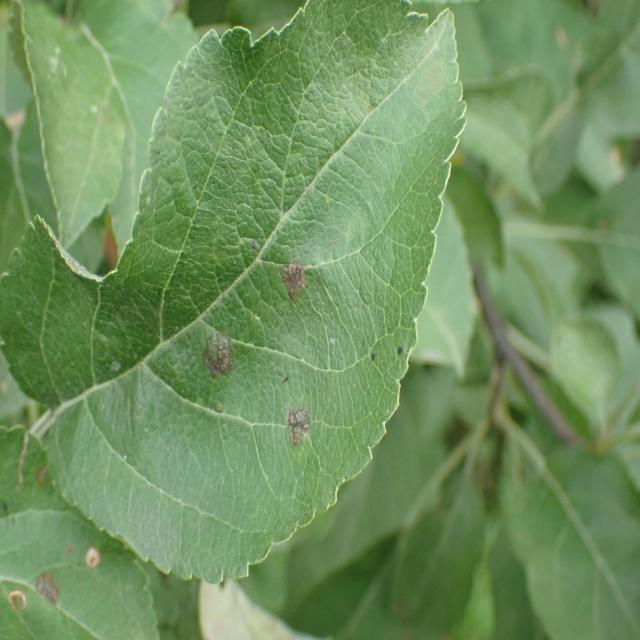scab: (137, 165, 366, 500), (0, 0, 125, 245), (0, 535, 146, 633)
